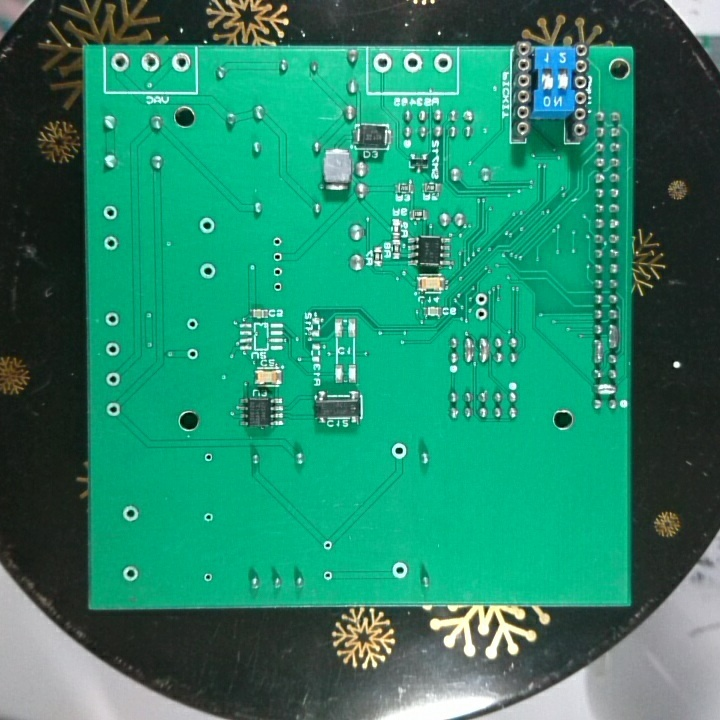F: (400, 50, 425, 77), (139, 49, 162, 75), (108, 50, 131, 76), (429, 52, 454, 75), (371, 51, 394, 76), (169, 51, 194, 74), (389, 559, 411, 582), (119, 562, 142, 584), (196, 215, 217, 237), (390, 440, 411, 461), (120, 503, 142, 523), (101, 203, 122, 223), (101, 233, 122, 253), (102, 309, 121, 331), (103, 400, 122, 420), (197, 261, 217, 280), (103, 339, 122, 358), (103, 370, 122, 389), (472, 290, 491, 307), (268, 263, 287, 280), (268, 280, 288, 295), (184, 345, 200, 363), (185, 314, 200, 333), (472, 306, 488, 323), (200, 510, 217, 526), (319, 569, 337, 584), (269, 249, 286, 264), (201, 569, 216, 586), (270, 233, 285, 249), (320, 538, 334, 555), (201, 449, 214, 465)
P: (606, 320, 621, 352), (477, 333, 490, 368), (591, 381, 619, 397), (589, 338, 605, 366), (462, 334, 475, 366)
